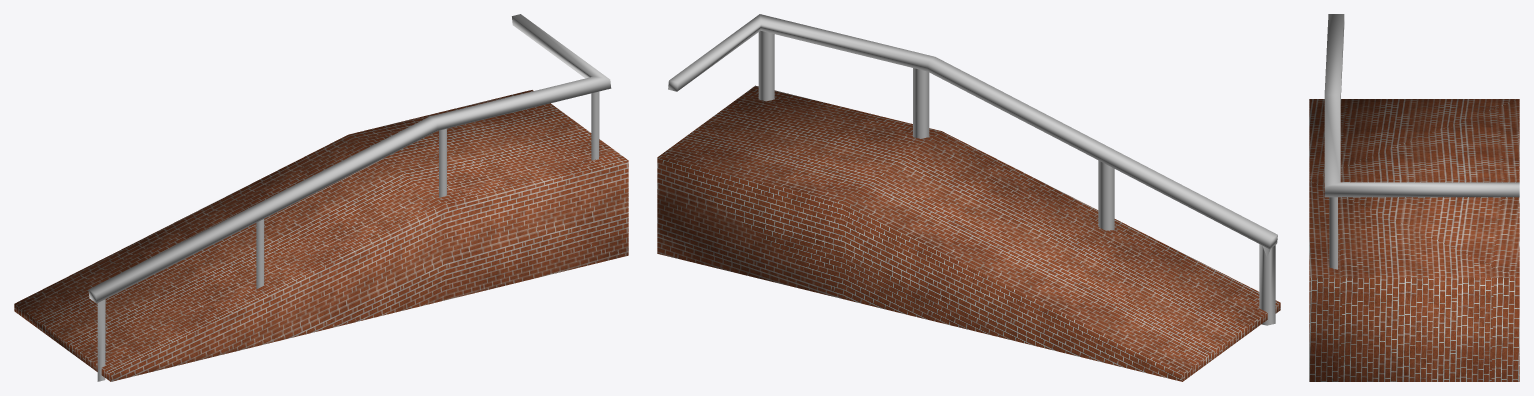
File: ramp.obj
3 renders of one model, left to right at view 1: azimuth 30°, elevation 25°; view 2: azimuth 150°, elevation 25°; view 3: azimuth 270°, elevation 25°, orthographic. The views are drawn at different scales.
Visible parts, largest first — view 1: Cube_Cube.001_None, Cube_Cube.001_None_NONE; view 2: Cube_Cube.001_None, Cube_Cube.001_None_NONE; view 3: Cube_Cube.001_None, Cube_Cube.001_None_NONE.
Boxes of the visible parts, x1,y1,x2,y2 form: Cube_Cube.001_None: (14,90,628,381); Cube_Cube.001_None_NONE: (88,14,611,381); Cube_Cube.001_None: (657,85,1280,381); Cube_Cube.001_None_NONE: (668,14,1277,325); Cube_Cube.001_None: (1309,99,1519,381); Cube_Cube.001_None_NONE: (1324,14,1519,269).
Bounding box in the file's own units: 6.26 × 2.05 × 2.
